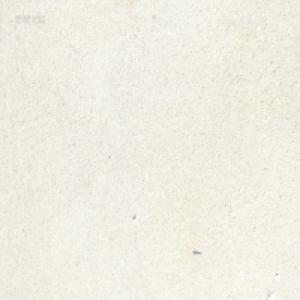Nail: (192, 248, 201, 255)
